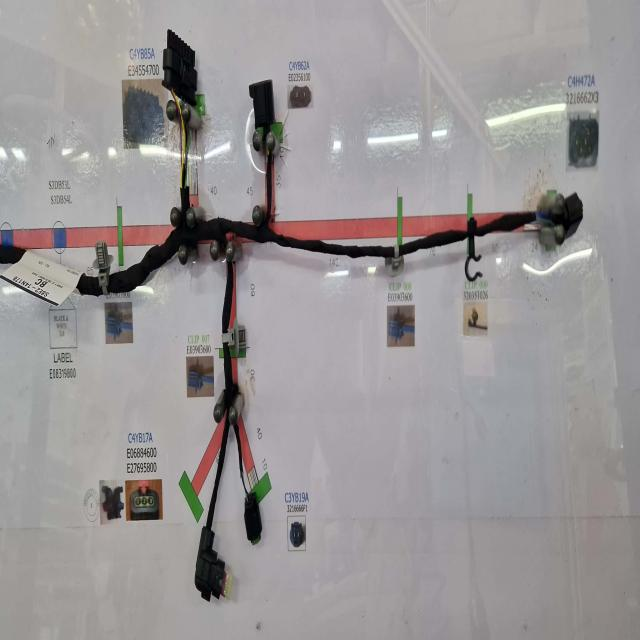Clip: (463, 218, 481, 283), (93, 240, 113, 294), (221, 318, 245, 359), (388, 241, 407, 272)
Connector: (164, 30, 198, 106), (194, 527, 224, 601), (247, 78, 273, 130), (243, 489, 262, 544), (563, 191, 583, 235)
Gape: (172, 100, 193, 194), (533, 207, 560, 232), (240, 473, 253, 499)
Info: (4, 250, 81, 307)
MHEV_N11_Cable: (79, 153, 536, 527)
